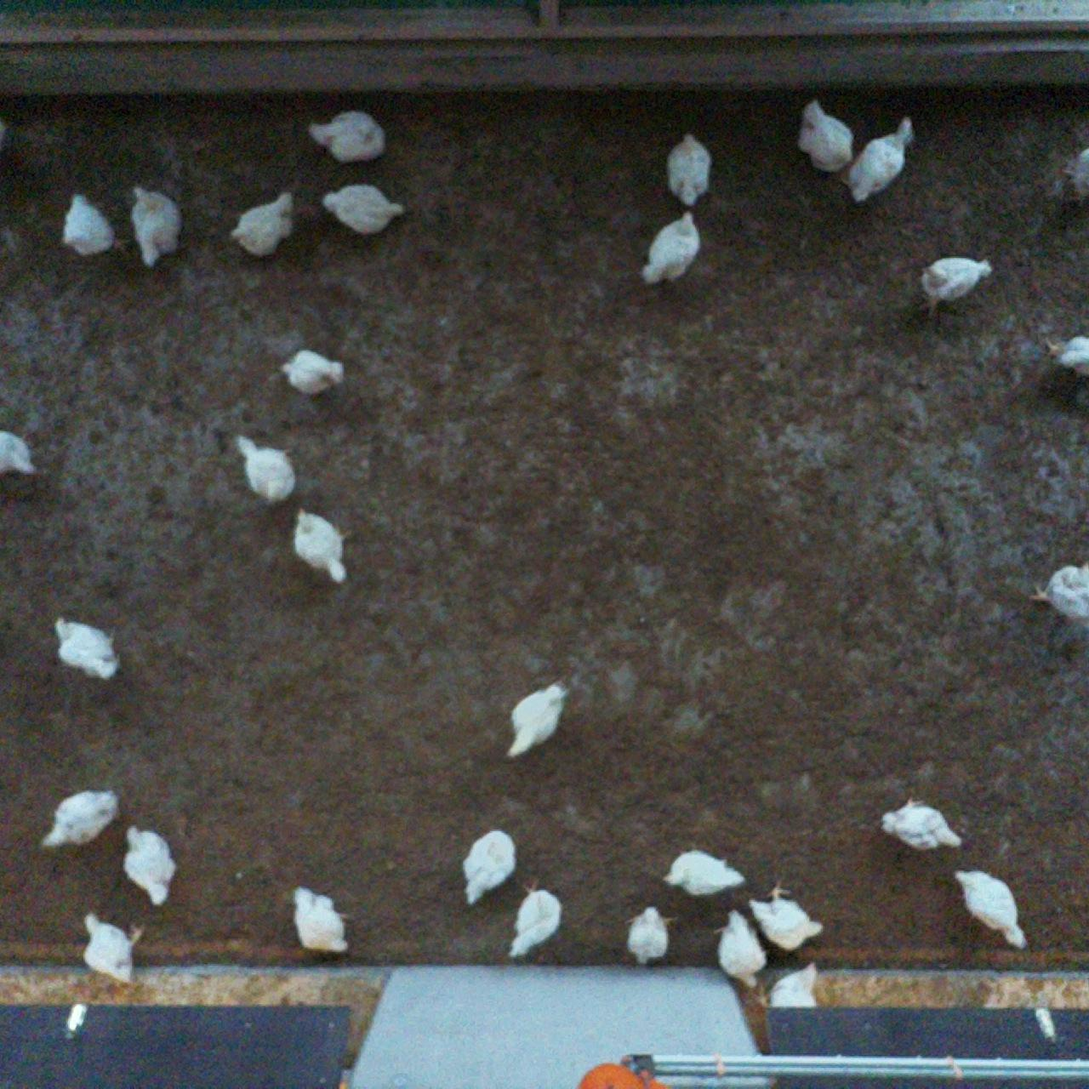chicken: (951, 863, 1030, 951), (845, 113, 917, 207), (745, 878, 827, 954), (228, 184, 302, 263), (317, 181, 410, 242), (505, 680, 573, 763), (37, 786, 121, 853), (76, 909, 149, 986), (915, 248, 995, 318), (119, 819, 179, 911), (503, 875, 567, 961), (126, 182, 189, 268), (50, 611, 125, 683), (291, 503, 355, 587), (637, 211, 708, 286), (879, 794, 963, 855), (710, 907, 770, 992), (794, 95, 856, 177), (304, 106, 388, 165), (459, 828, 521, 907), (58, 189, 125, 261), (235, 432, 299, 504), (662, 844, 747, 898), (289, 883, 352, 955), (1028, 558, 1089, 632), (659, 131, 716, 209), (620, 905, 682, 967), (278, 344, 348, 396), (769, 960, 823, 1010), (1042, 333, 1089, 381), (0, 428, 39, 481)
